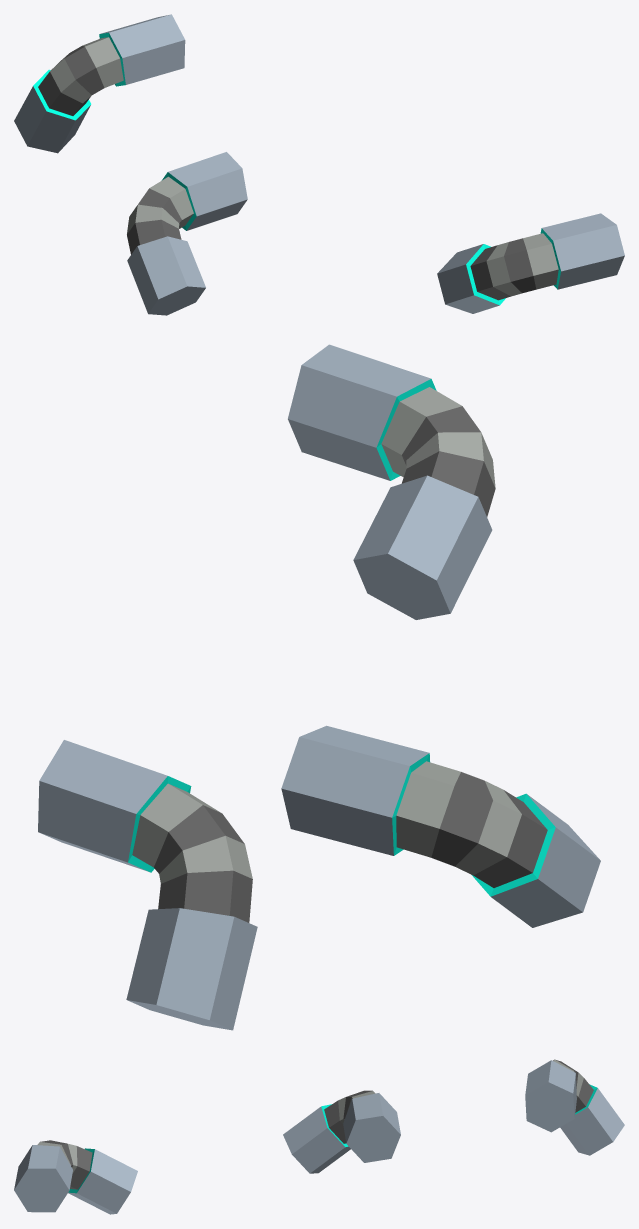
Rendered from Freighter_Pipes.03.fbx.
3 views of the same model, one above another, from view 1: azimuth 30°, elevation 25°; view 2: azimuth 150°, elevation 25°; view 3: azimuth 270°, elevation 25° (orthographic). The views are drawn at different scales.
Visible parts, largest first — view 1: Pipes_03_LOD0; view 2: Pipes_03_LOD0; view 3: Pipes_03_LOD0.
Boxes of the visible parts, x1,y1,x2,y2 form: Pipes_03_LOD0: (14,14,624,315); Pipes_03_LOD0: (38,344,600,1030); Pipes_03_LOD0: (14,1059,624,1214).
Size of what is drawn, in the model's own units: 6189 by 3296 by 12229.
Materials: 1 (1 with a texture image).
